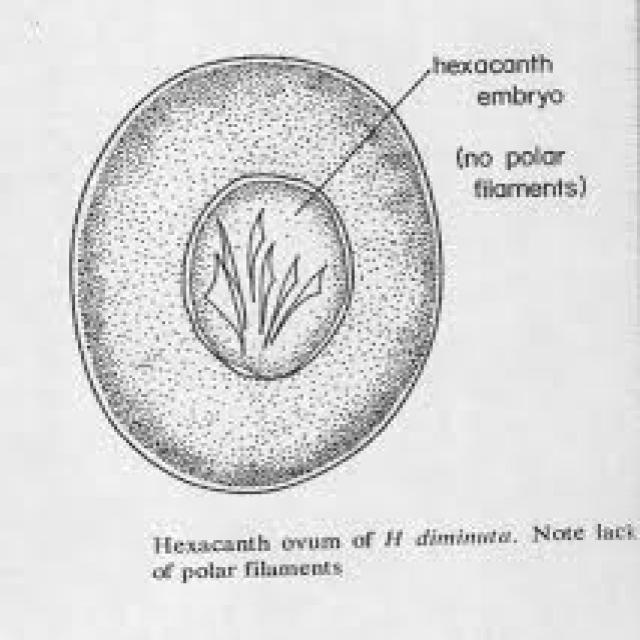Hymenolepis: (62, 45, 455, 498)
